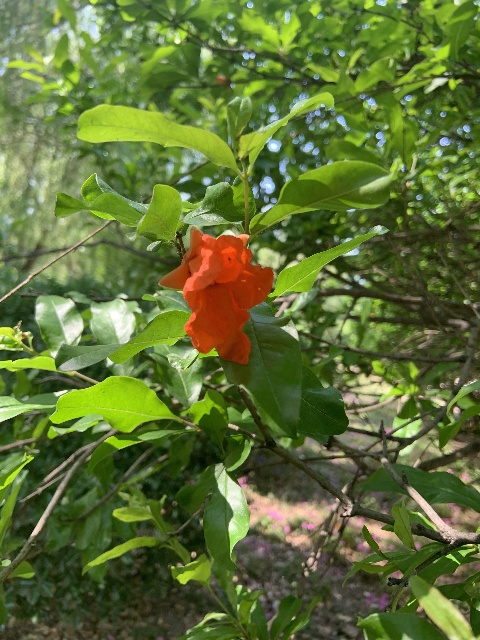flower: (159, 226, 274, 364)
